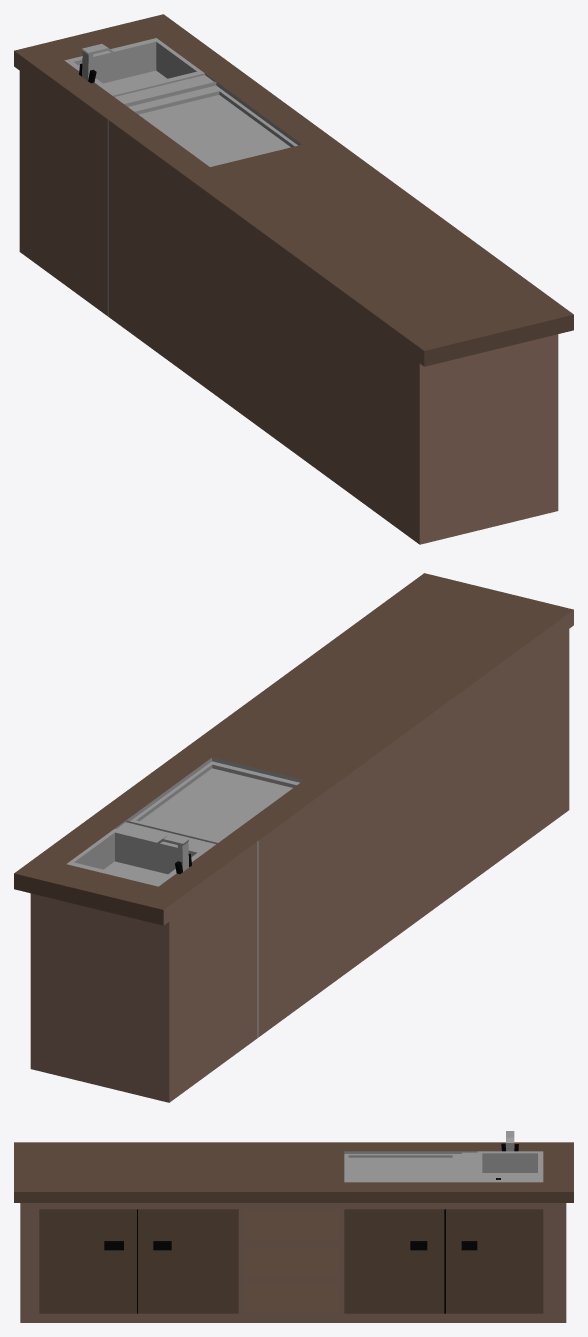
File: kitchen.fbx
3 views of the same model, one above another, from view 1: azimuth 30°, elevation 25°; view 2: azimuth 150°, elevation 25°; view 3: azimuth 270°, elevation 25° (orthographic). The views are drawn at different scales.
Parts seen in each view (by area): view 1: Cube; view 2: Cube; view 3: Cube.
Part boxes in pixels (x1,y1,x2,y2): Cube: (14,14,573,544); Cube: (14,573,573,1102); Cube: (14,1131,573,1322).
Bounding box in the file's own units: 173 × 248 × 820.
